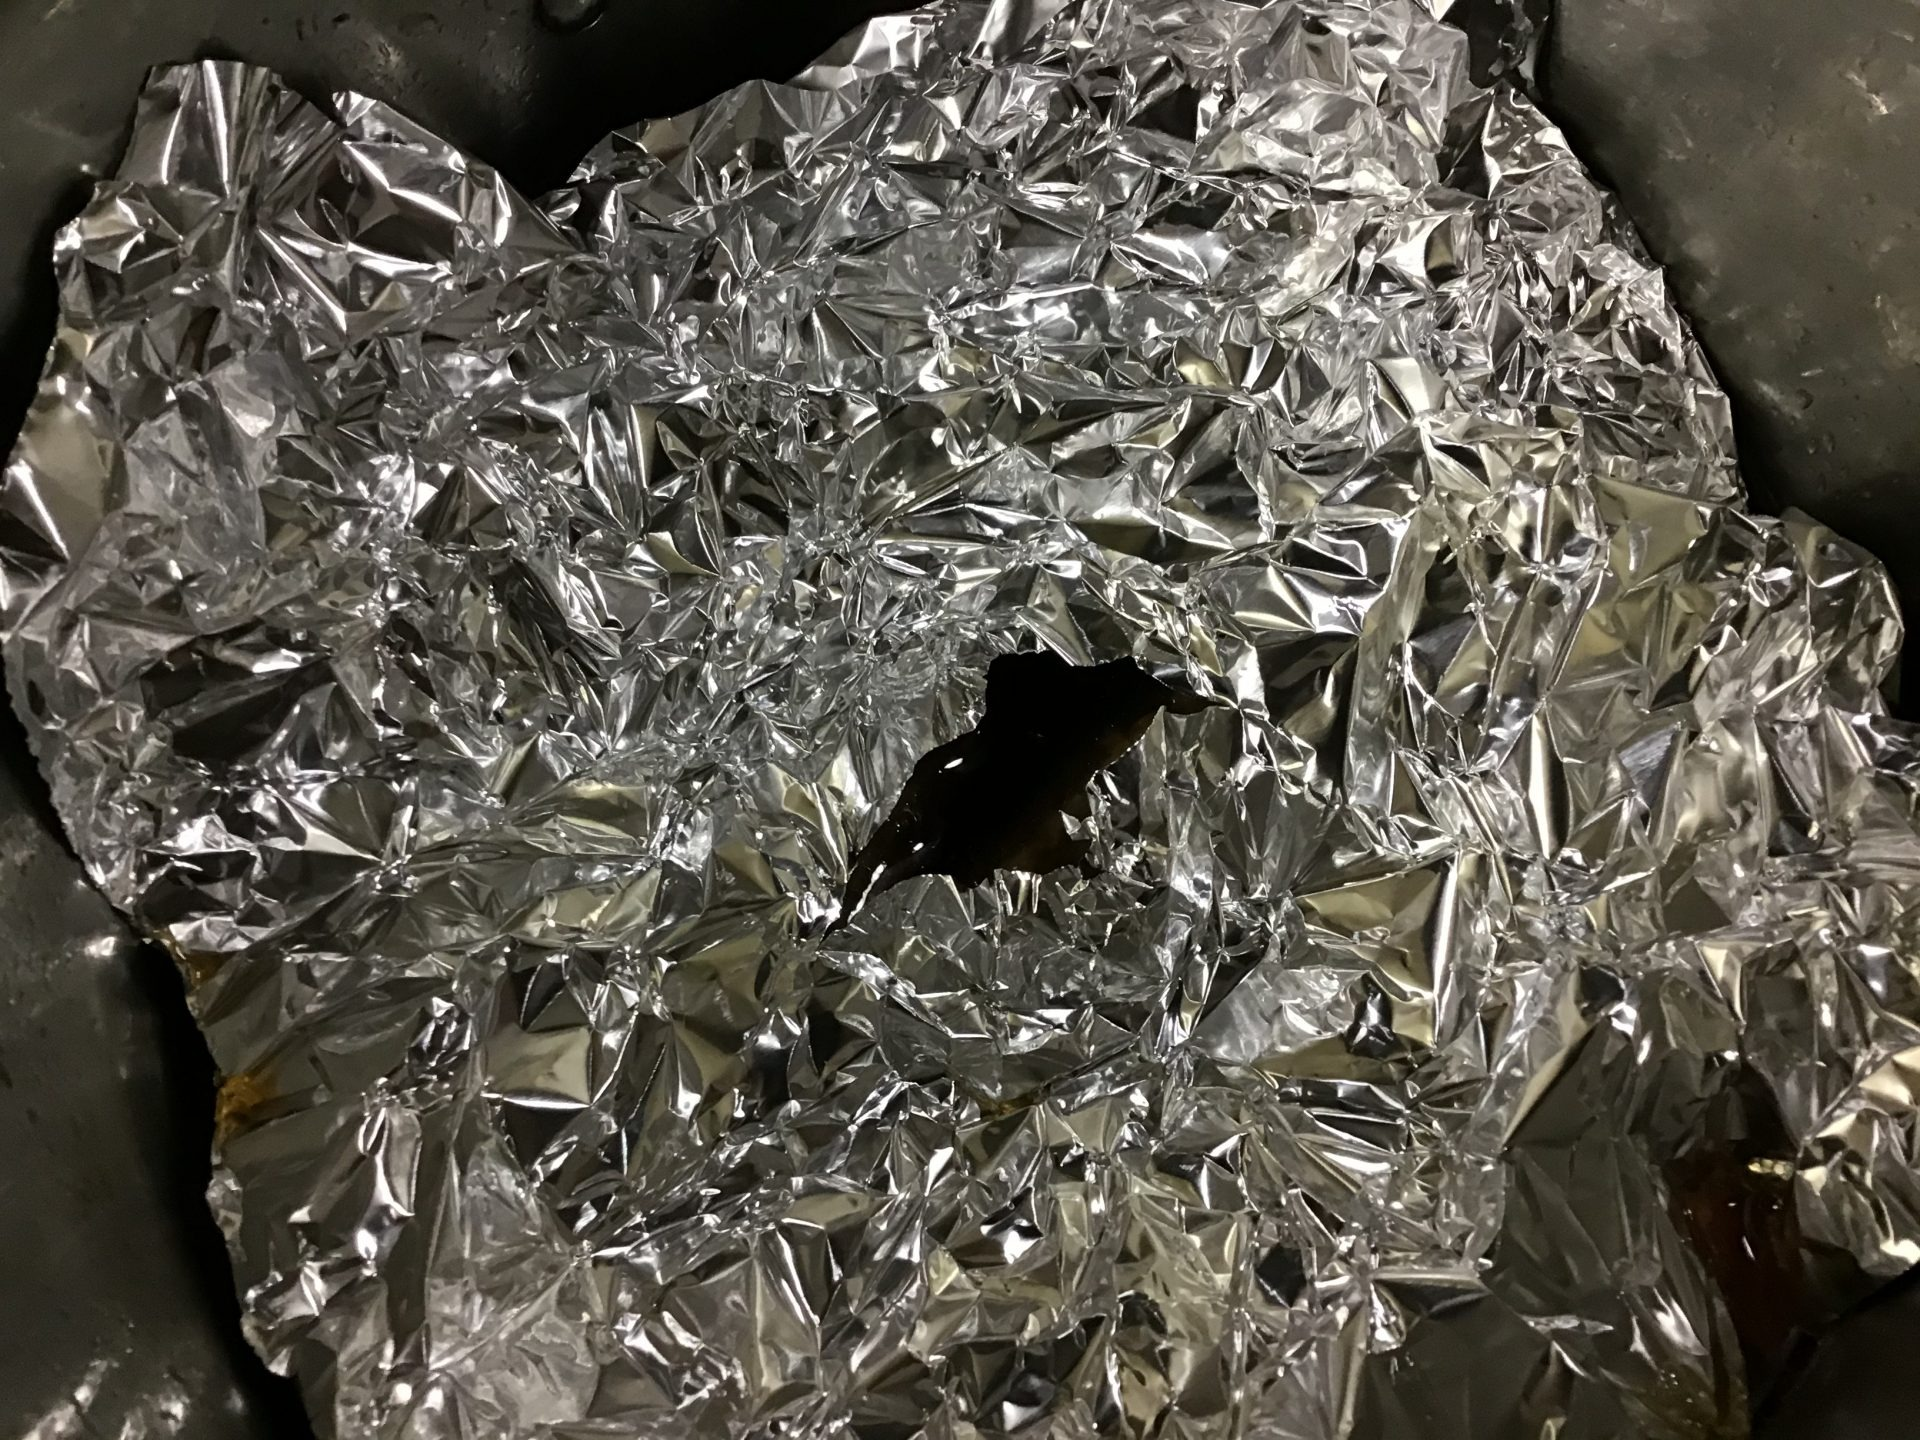metal: (3, 2, 1920, 1440)
